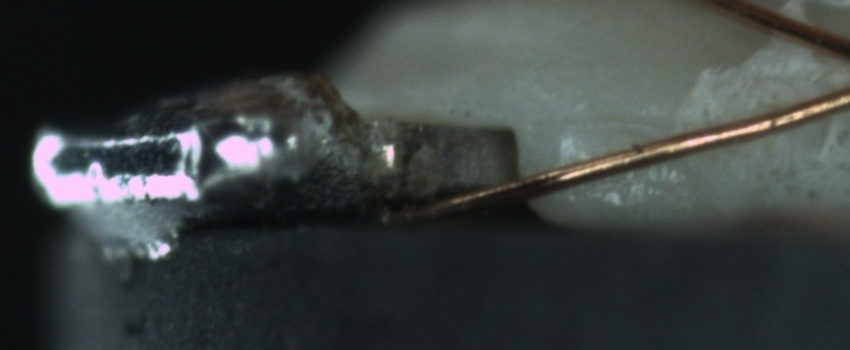DL: (544, 92, 678, 155)
